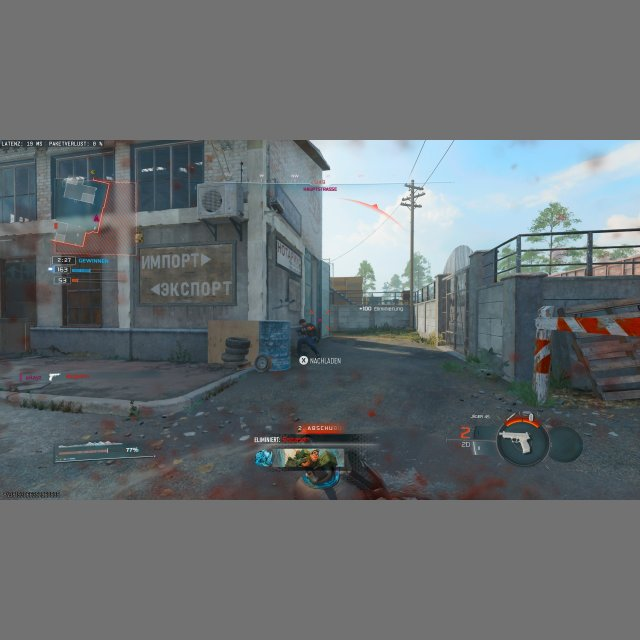head: (299, 319, 307, 327)
player: (295, 319, 320, 361)
